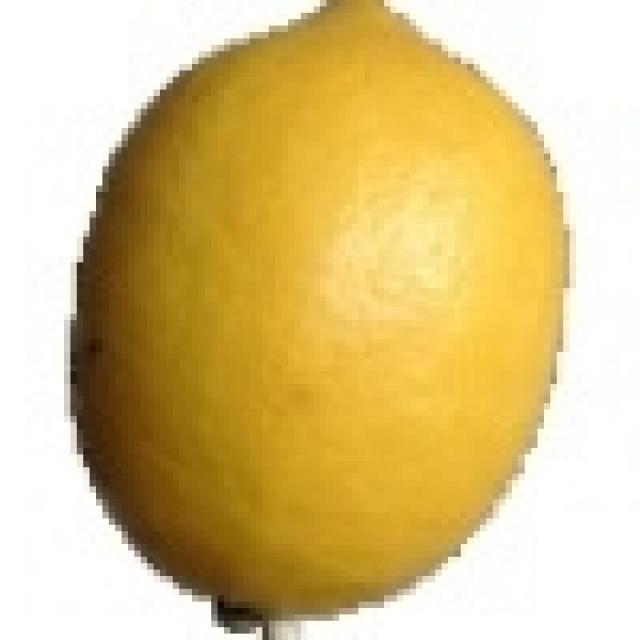lemon: (75, 0, 565, 632)
